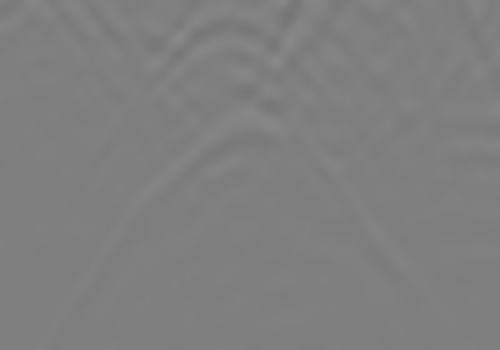hyperbola: (102, 112, 413, 342)
